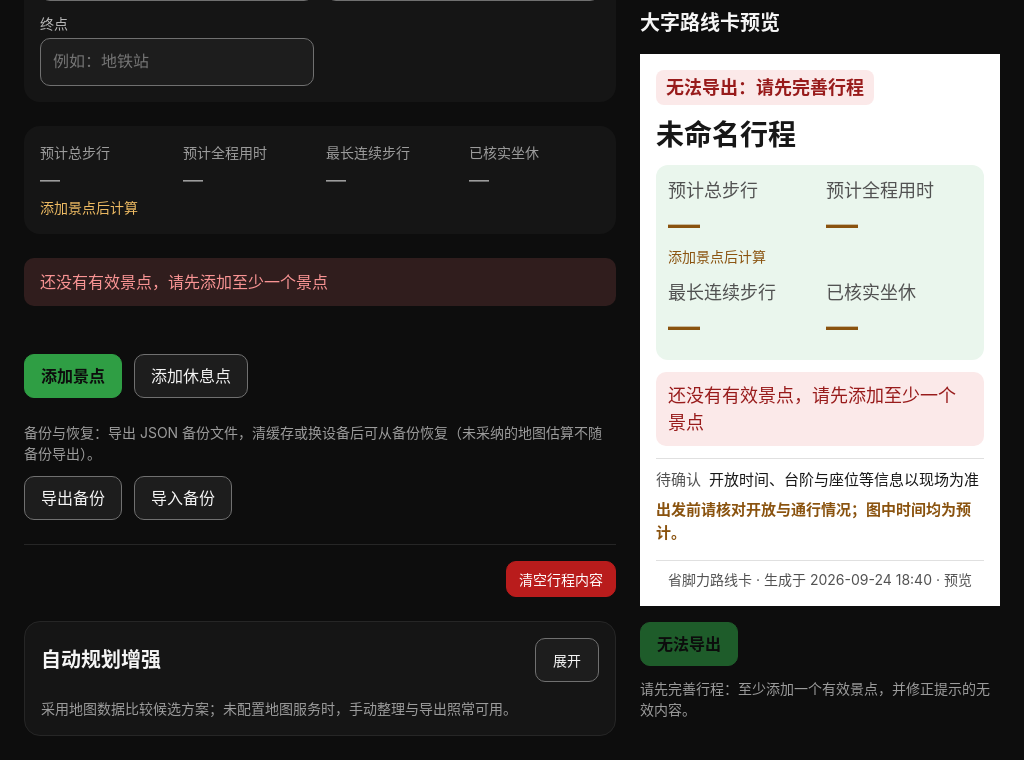
Test: 多行程管理（Task 6） › 行程切换器打开列表面板：列出全部行程并含新建入口（M-R01）
The width and height of the screenshot is (1024, 760).
(page scrolled)
Click the button "添加景点" at (73, 376), box top-left (24, 354), bottom-right (122, 398)
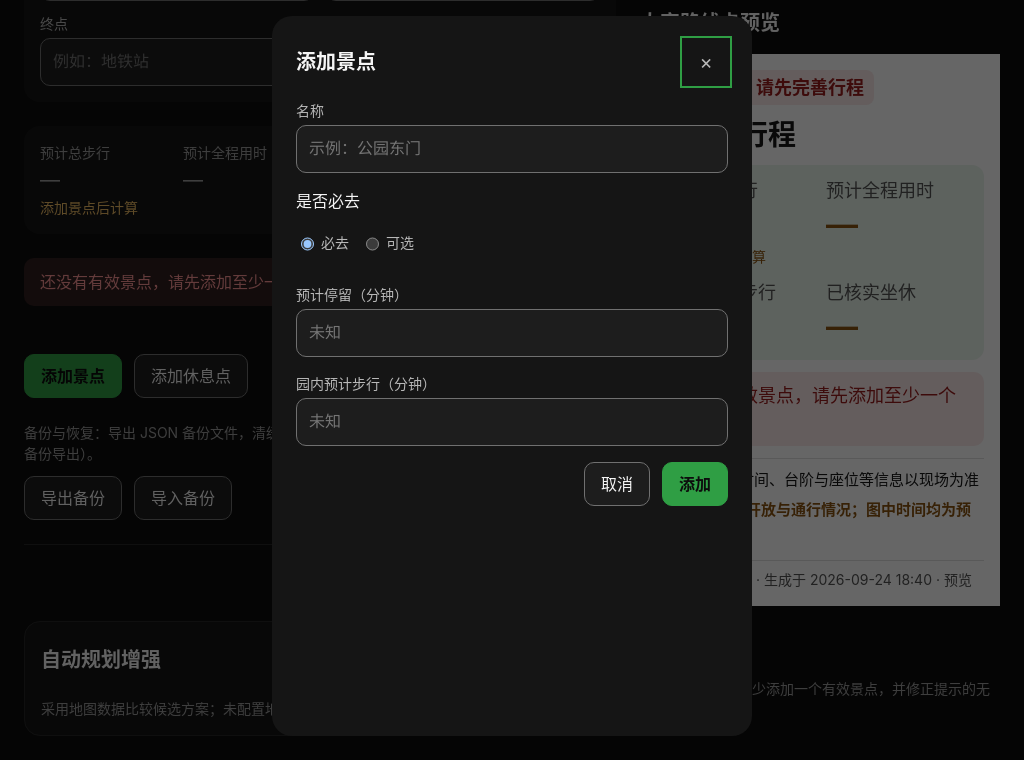
Type "面板景点" into the field labelled "名称" at (512, 149), box top-left (296, 125), bottom-right (728, 173)
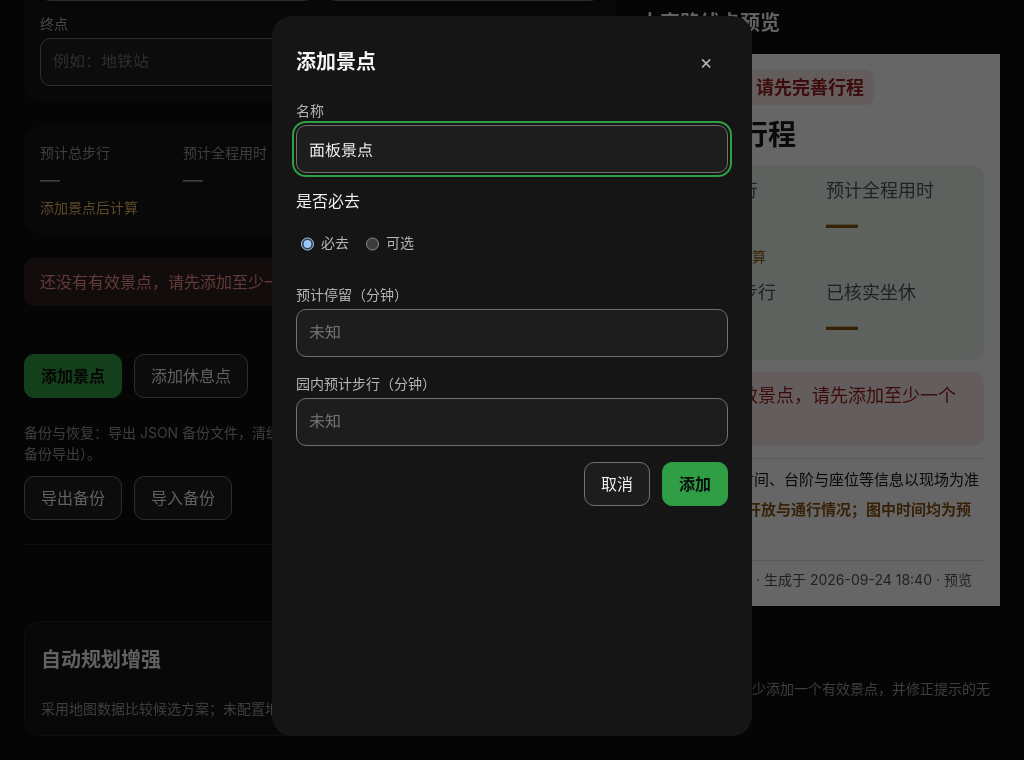
Click the button "添加" at (695, 484), box top-left (662, 462), bottom-right (728, 506)
(page scrolled)
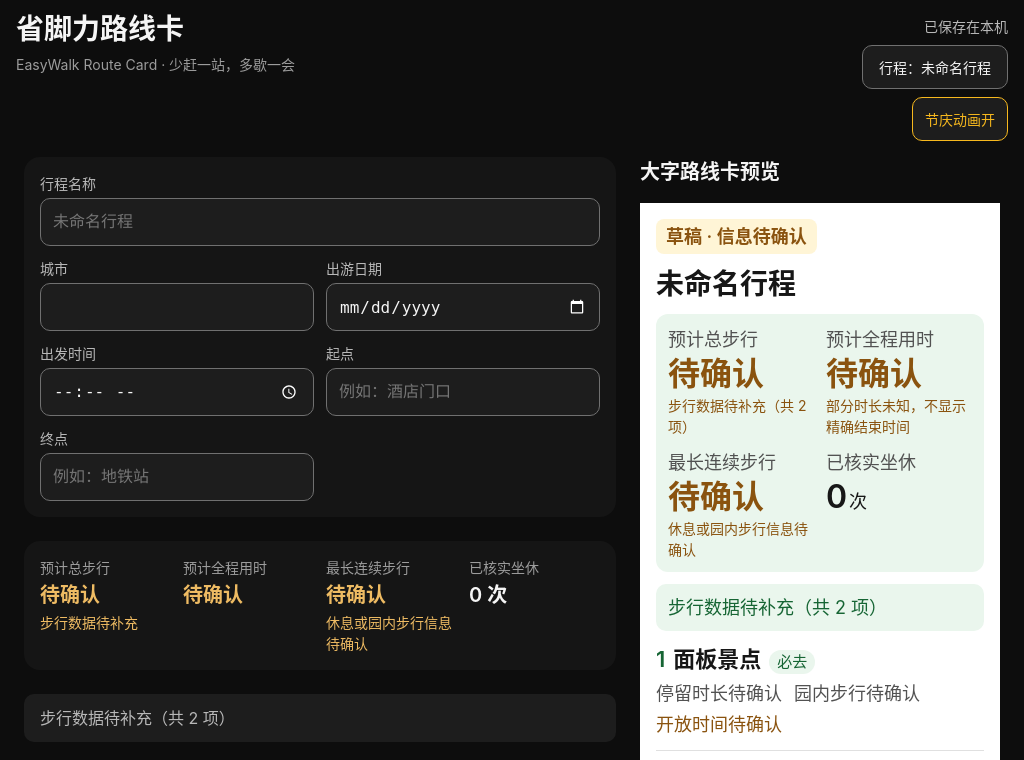
Click the button with aria-label "行程列表" at (935, 67), box top-left (862, 45), bottom-right (1008, 89)
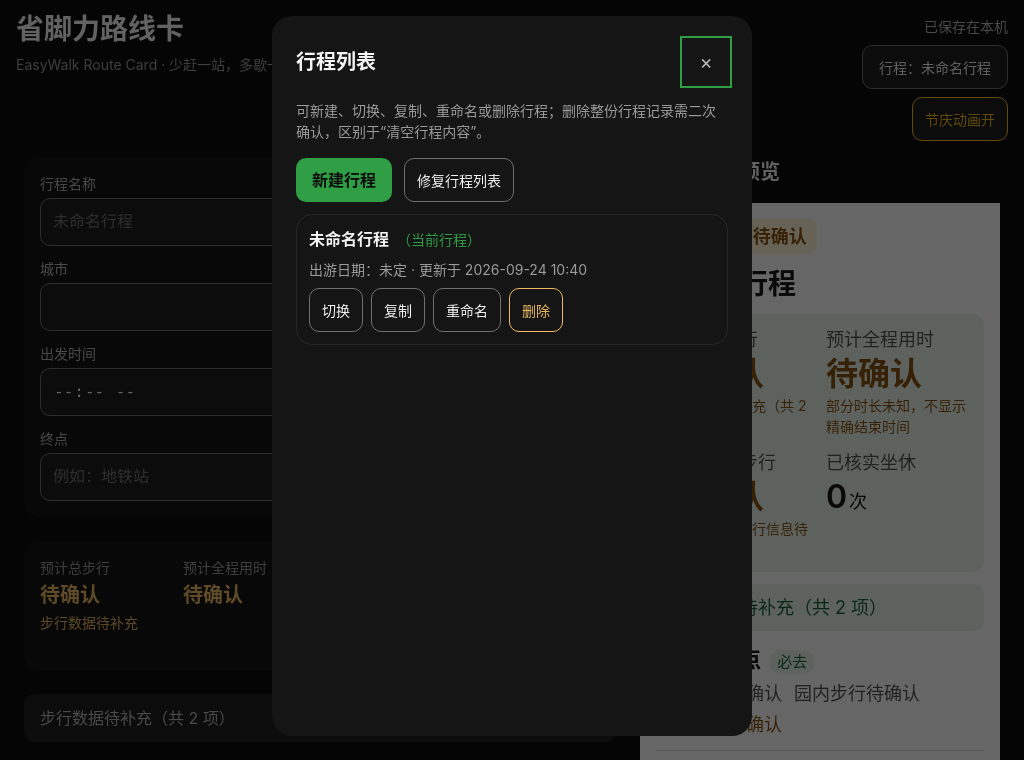
Expected: the button "新建行程" is shown, top-left (296, 158), bottom-right (392, 202)
Expected: the button "修复行程列表" is shown, top-left (404, 158), bottom-right (514, 202)
Expected: the text "未命名行程" is shown, top-left (309, 227), bottom-right (389, 251)
